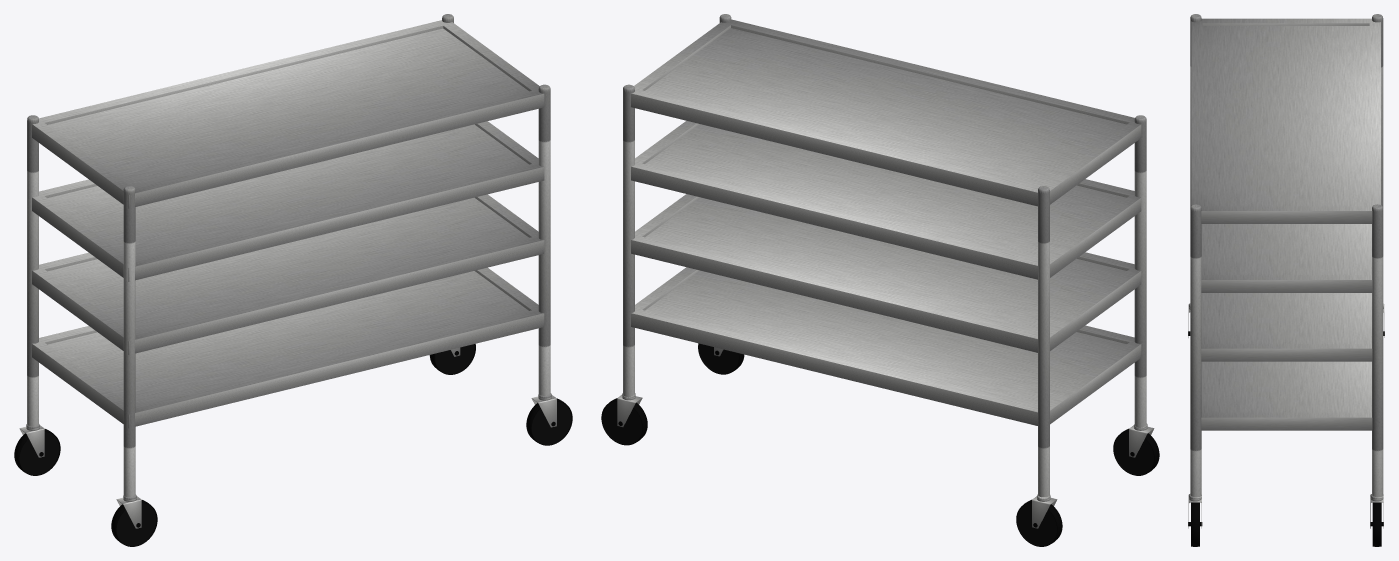
File: FoodCart.FBX
The picture shows the model from 3 angles, left to right: view 1: azimuth 30°, elevation 25°; view 2: azimuth 150°, elevation 25°; view 3: azimuth 270°, elevation 25°; orthographic projection. The views are drawn at different scales.
Parts seen in each view (by area): view 1: FoodCart; view 2: FoodCart; view 3: FoodCart.
Part boxes in pixels (box(x1,y1,x2,y2)): FoodCart: box(14, 14, 572, 546); FoodCart: box(601, 14, 1159, 546); FoodCart: box(1188, 14, 1384, 546).
Bounding box in the file's own units: 131 × 97.81 × 51.8.
4 materials, 2 textured.
